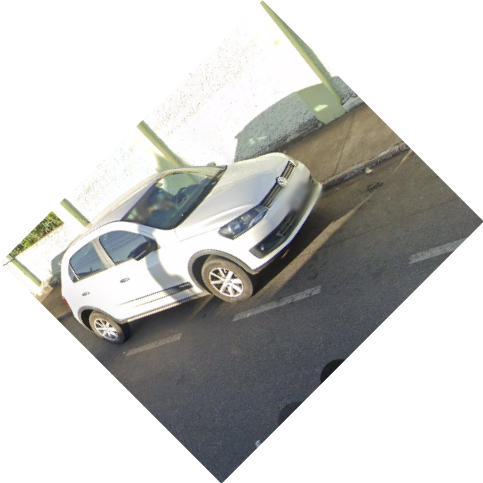car: (57, 148, 334, 345)
